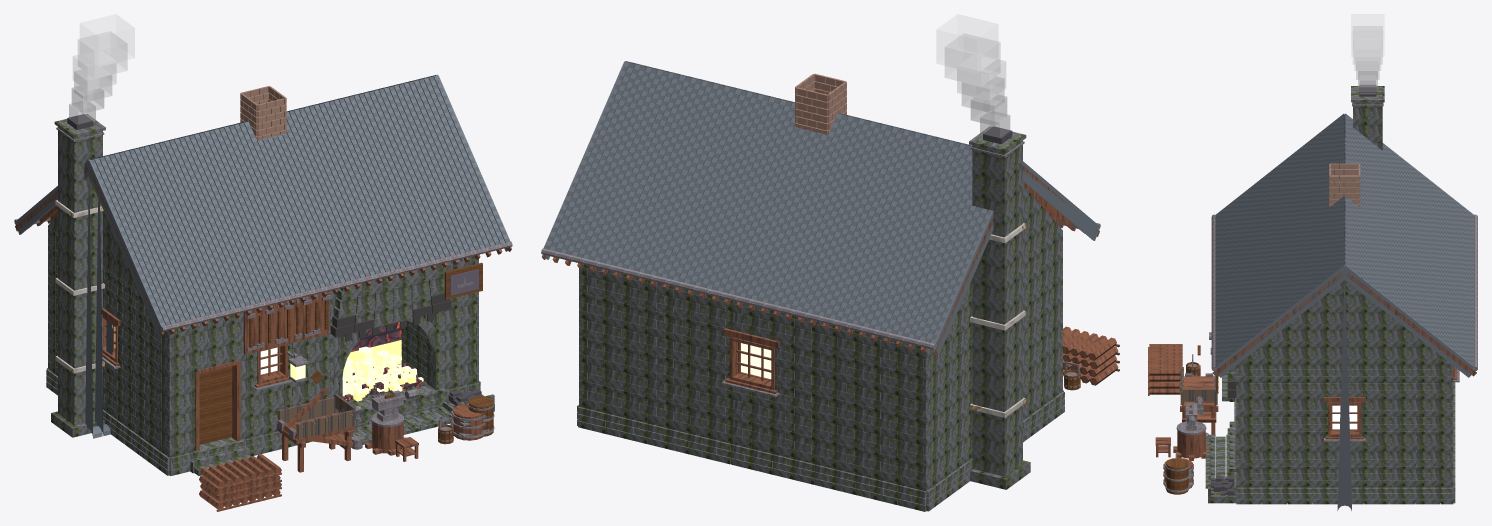
Rendered from smed.glb.
The picture shows the model from 3 angles, left to right: view 1: azimuth 30°, elevation 25°; view 2: azimuth 150°, elevation 25°; view 3: azimuth 270°, elevation 25°; orthographic projection. The views are drawn at different scales.
Visible parts, largest first — view 1: smed_takpanna_ljus, smed_takpanna_mörk, smed_sten, smed_mörkt_virke, smed_mur, smed_järn, smed_ljust_virke, smed_fot_sten, smed_rök_2, smed_glödhet, smed_läder, smed_tegel (+8 smaller); view 2: smed_sten, smed_takpanna_ljus, smed_takpanna_mörk, smed_mur, smed_fot_sten, smed_mörkt_virke, smed_järn, smed_rök_2, smed_tegel, smed_rök_3, smed_rök_0, smed_rök_1 (+2 smaller); view 3: smed_takpanna_ljus, smed_takpanna_mörk, smed_sten, smed_mur, smed_mörkt_virke, smed_fot_sten, smed_järn, smed_rök_2, smed_tegel, smed_rök_3, smed_ljust_virke, smed_kol (+4 smaller).
Boxes of the visible parts, x1,y1,x2,y2 form: smed_takpanna_ljus: [15, 74, 509, 438]; smed_takpanna_mörk: [34, 76, 509, 435]; smed_sten: [48, 114, 494, 475]; smed_mörkt_virke: [15, 165, 511, 511]; smed_mur: [48, 127, 443, 454]; smed_järn: [14, 127, 512, 469]; smed_ljust_virke: [199, 262, 493, 444]; smed_fot_sten: [46, 368, 480, 475]; smed_rök_2: [73, 31, 127, 90]; smed_glödhet: [342, 346, 423, 396]; smed_läder: [278, 394, 358, 439]; smed_tegel: [240, 86, 286, 140]; smed_sten: [579, 126, 1062, 490]; smed_takpanna_ljus: [543, 61, 1099, 354]; smed_takpanna_mörk: [544, 62, 1096, 346]; smed_mur: [930, 140, 1062, 487]; smed_fot_sten: [577, 390, 1064, 511]; smed_mörkt_virke: [542, 166, 1119, 393]; smed_järn: [541, 141, 1100, 397]; smed_rök_2: [945, 33, 1005, 100]; smed_tegel: [795, 73, 846, 134]; smed_rök_3: [937, 14, 997, 72]; smed_rök_0: [970, 91, 1010, 137]; smed_rök_1: [962, 76, 1004, 112]; smed_takpanna_ljus: [1213, 113, 1476, 433]; smed_takpanna_mörk: [1215, 114, 1474, 510]; smed_sten: [1205, 86, 1453, 503]; smed_mur: [1205, 102, 1446, 487]; smed_mörkt_virke: [1148, 272, 1476, 488]; smed_fot_sten: [1234, 382, 1455, 504]; smed_järn: [1163, 102, 1477, 492]; smed_rök_2: [1353, 26, 1382, 70]; smed_tegel: [1329, 163, 1360, 206]; smed_rök_3: [1351, 14, 1383, 56]; smed_ljust_virke: [1166, 345, 1218, 494]; smed_kol: [1211, 85, 1376, 495].
Size of the model in its own units: 14.67 by 15.18 by 12.91.
23 materials, 8 textured.
